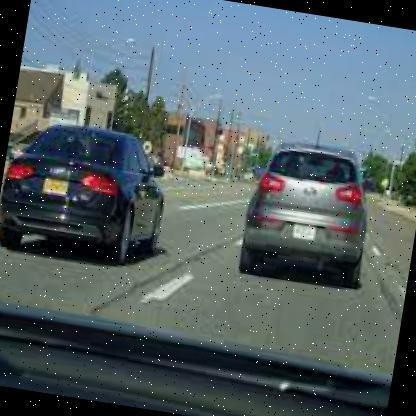License-Plate: (41, 176, 70, 199), (292, 222, 317, 243)
